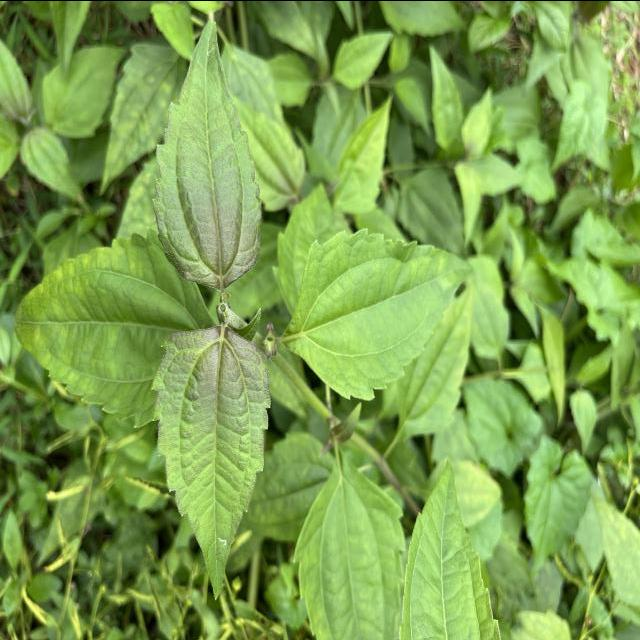Chromolaena odorata: (148, 318, 274, 602), (150, 17, 267, 290)
